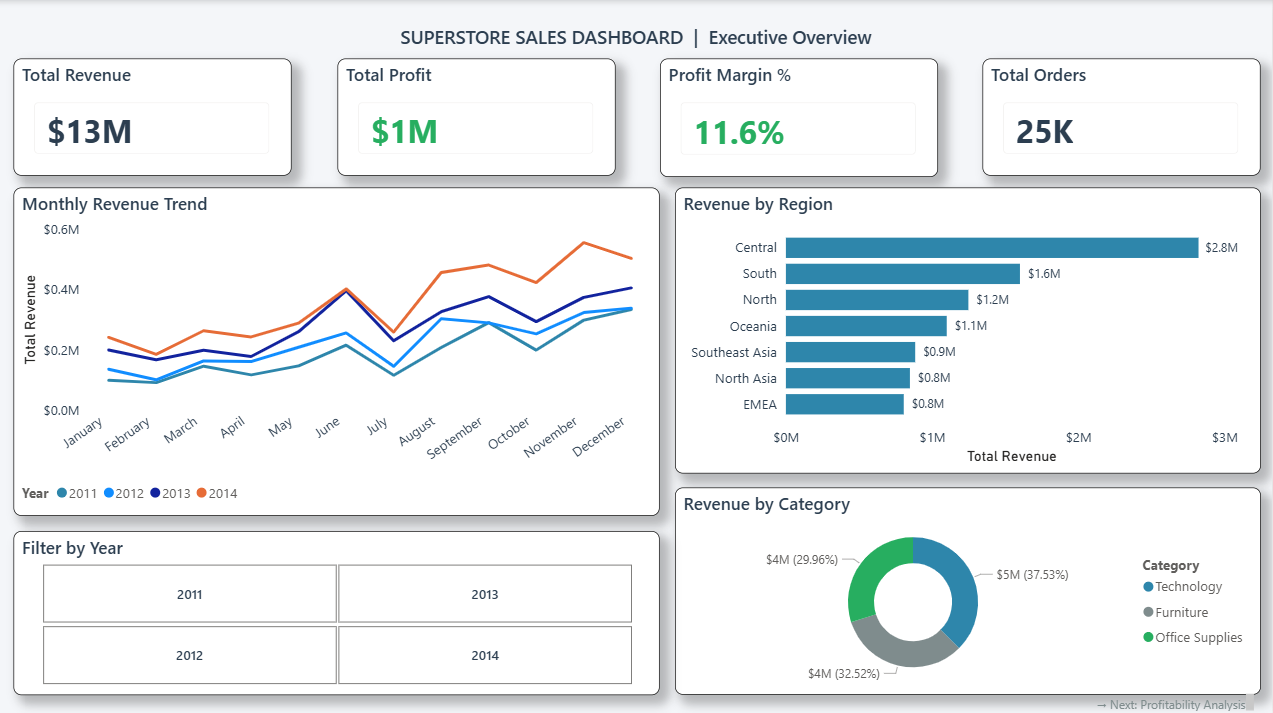

The page's visual inventory and layout, read from the dashboard file:
{"tool":"powerbi","page":{"name":"Executive Overview","canvas":[1280,720],"ordinal":0},"visuals":[{"type":"cardVisual","title":"Total Revenue","fields":{"Data":["_DAXMeasures.Total Revenue"]},"box":[14.3,58.9,279.9,117.7],"z":0},{"type":"cardVisual","title":"Total Profit","fields":{"Data":["_DAXMeasures.Total Profit"]},"box":[339.3,58.9,279.9,117.7],"z":1000},{"type":"cardVisual","title":"Profit Margin %","fields":{"Data":["_DAXMeasures.Profit Margin %"]},"box":[664.3,58.9,279.9,119.3],"z":2000},{"type":"cardVisual","title":"Total Orders","fields":{"Data":["_DAXMeasures.Total Orders"]},"box":[989.4,58.9,279.9,117.7],"z":3000},{"type":"lineChart","title":"Monthly Revenue Trend","fields":{"Category":["Date Table.Month Name"],"Y":["_DAXMeasures.Total Revenue"],"Series":["Date Table.Year"]},"box":[14.3,189.3,650.6,330.8],"z":4000},{"type":"clusteredBarChart","title":"Revenue by Region","fields":{"Category":["Orders.Region"],"Y":["_DAXMeasures.Total Revenue"]},"box":[679.2,189.3,590.1,287.9],"z":5000},{"type":"donutChart","title":"Revenue by Category","fields":{"Category":["Orders.Category"],"Y":["_DAXMeasures.Total Revenue"]},"box":[679.2,491.5,590.1,208.4],"z":6000},{"type":"slicer","title":"Filter by Year","fields":{"Values":["Date Table.Year"]},"box":[14.3,534.4,650.6,165],"z":7000},{"type":"textbox","box":[0,0,1280.4,73.2],"z":8000},{"type":"textbox","box":[960.7,687.1,307,33.4],"z":9000}]}

Visuals, with their boxes in screenshot pixels (x1, y1, x2, y2), scaled from the page's 1280x720 canvas onto the 1273x713 screenshot:
"Total Revenue" cardVisual: left=14, top=58, right=293, bottom=175
"Total Profit" cardVisual: left=337, top=58, right=616, bottom=175
"Profit Margin %" cardVisual: left=661, top=58, right=939, bottom=176
"Total Orders" cardVisual: left=984, top=58, right=1262, bottom=175
"Monthly Revenue Trend" lineChart: left=14, top=187, right=661, bottom=515
"Revenue by Region" clusteredBarChart: left=675, top=187, right=1262, bottom=473
"Revenue by Category" donutChart: left=675, top=487, right=1262, bottom=693
"Filter by Year" slicer: left=14, top=529, right=661, bottom=693
textbox: left=0, top=0, right=1272, bottom=72
textbox: left=955, top=680, right=1261, bottom=712
